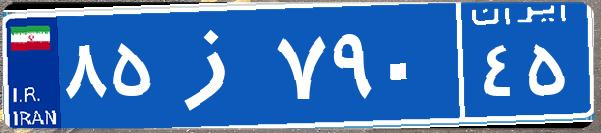0: (385, 28, 445, 110)
4: (475, 38, 525, 113)
5: (110, 28, 158, 105), (525, 38, 570, 115)
7: (273, 28, 330, 110)
8: (57, 26, 110, 107)
9: (330, 28, 385, 110)
ز: (158, 15, 273, 115)
